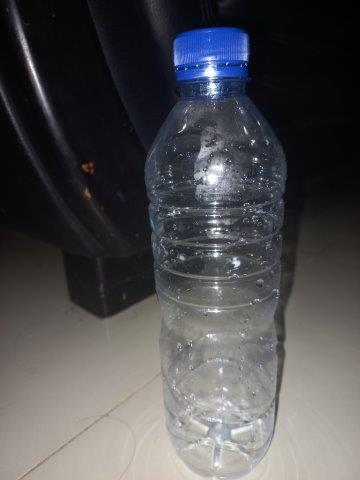botolplastik: (144, 26, 288, 473)
